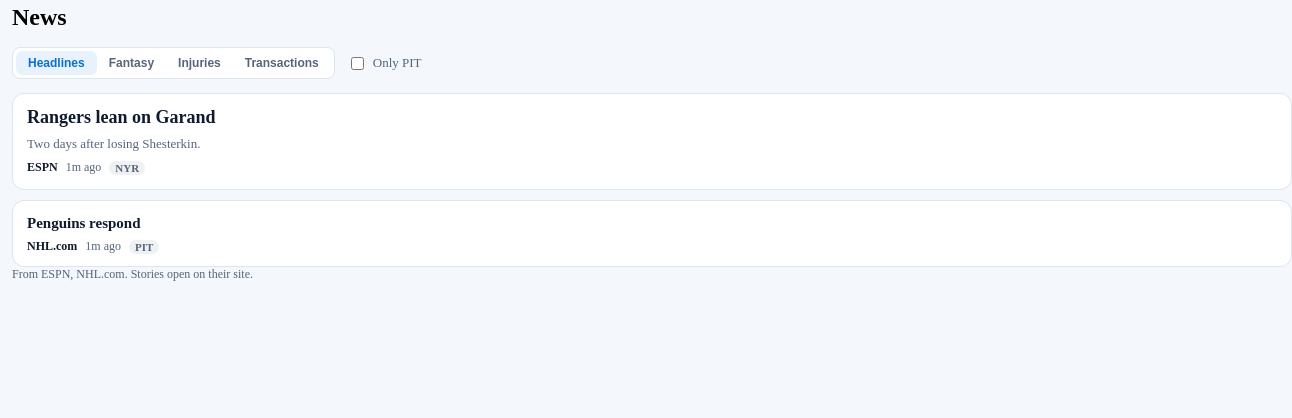
News › fantasy: player updates with their team, articles, and your-team-only
What coordinates should you click on to do the following:
click the button "Fantasy"
I would click on:
 (131, 63)
Its box is [97,51,166,75].
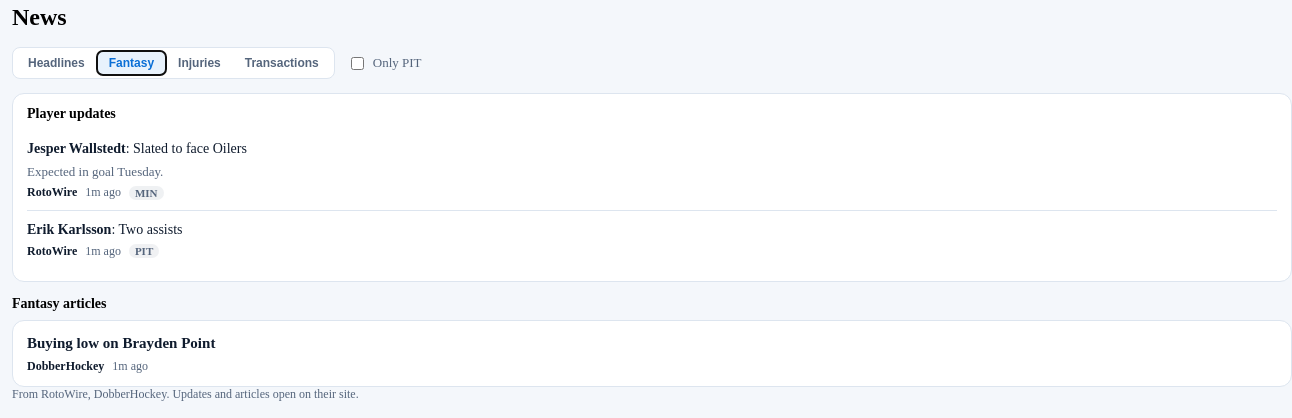
Check: the link "Jesper Wallstedt" shows "Slated to face Oilers", box [27,141,247,200]
Check: the text "MIN" is shown, box [129,186,164,200]
Check: the text "From RotoWire, DobberHockey" is shown, box [12,387,359,401]
What coordinates should you click on to do the following:
click the checkbox labelled "Only PIT"
I would click on:
 (357, 63)
Its box is [351,56,364,70].
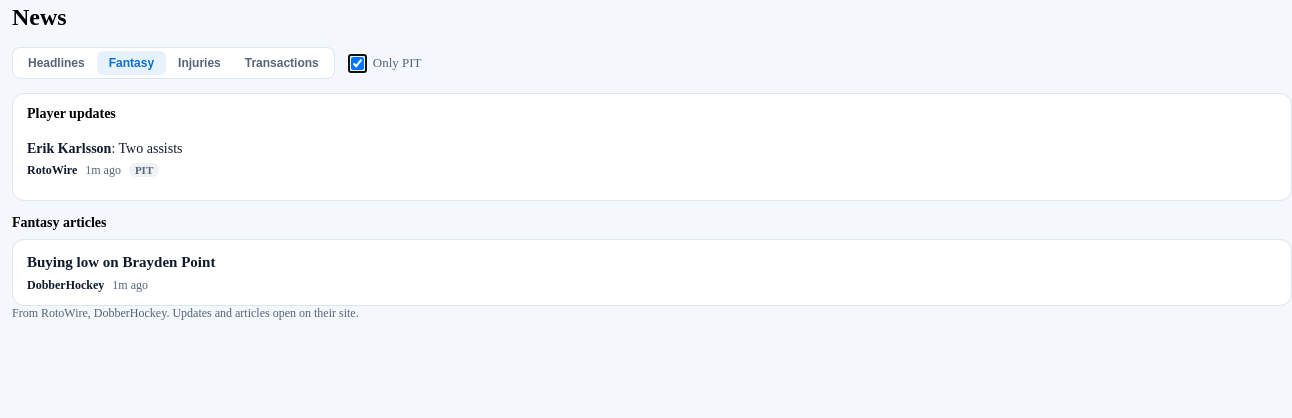
Check: the text "Erik Karlsson" is shown, box [27,141,111,156]
Check: the link "Jesper Wallstedt" is gone
